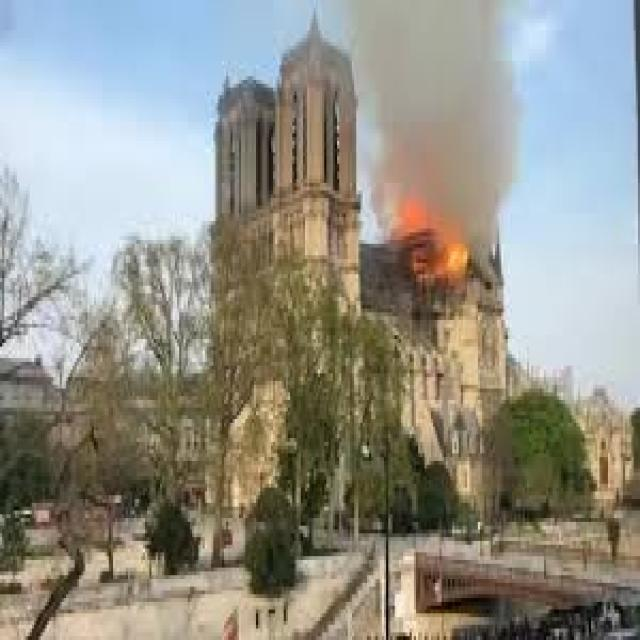Fire: (378, 188, 472, 330)
Smoke: (352, 0, 518, 183)
